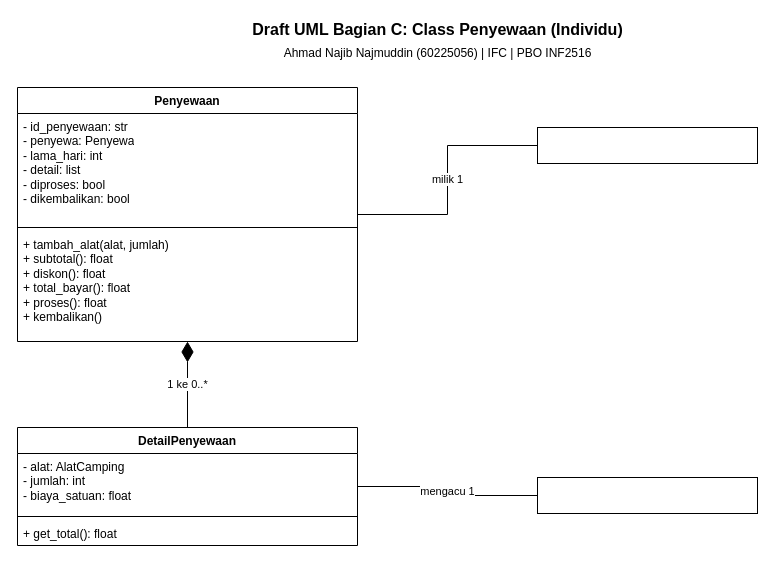
Some shapes in this 775 by 565 pixel diagram are drawn without their labels. Here are the shapes that lost their labels. From the top down, the centre of each, then its label:
point 647,145: Penyewa
point 647,495: AlatCamping
